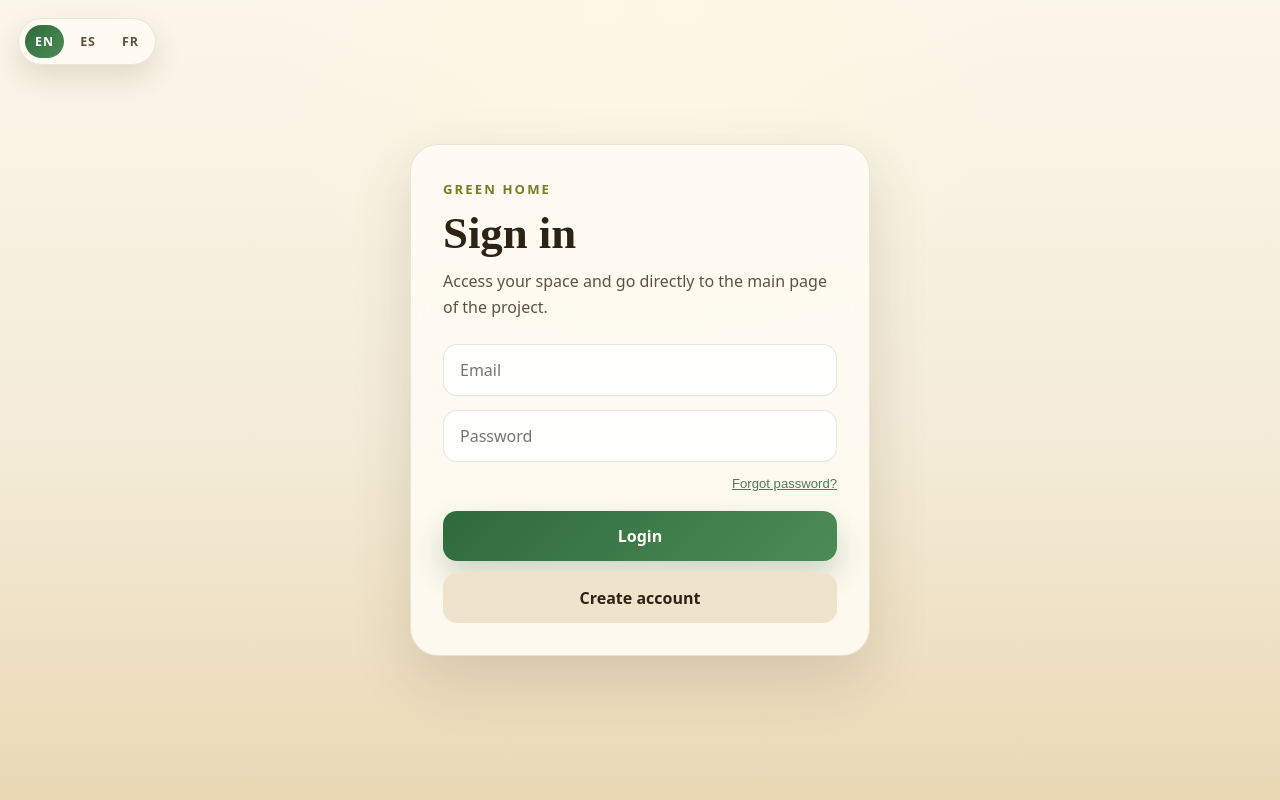
Test: App routing › shows success message on Login after successful registration
The image size is (1280, 800).
Click the button "Create account".
click(640, 598)  # box [443,573,837,623]
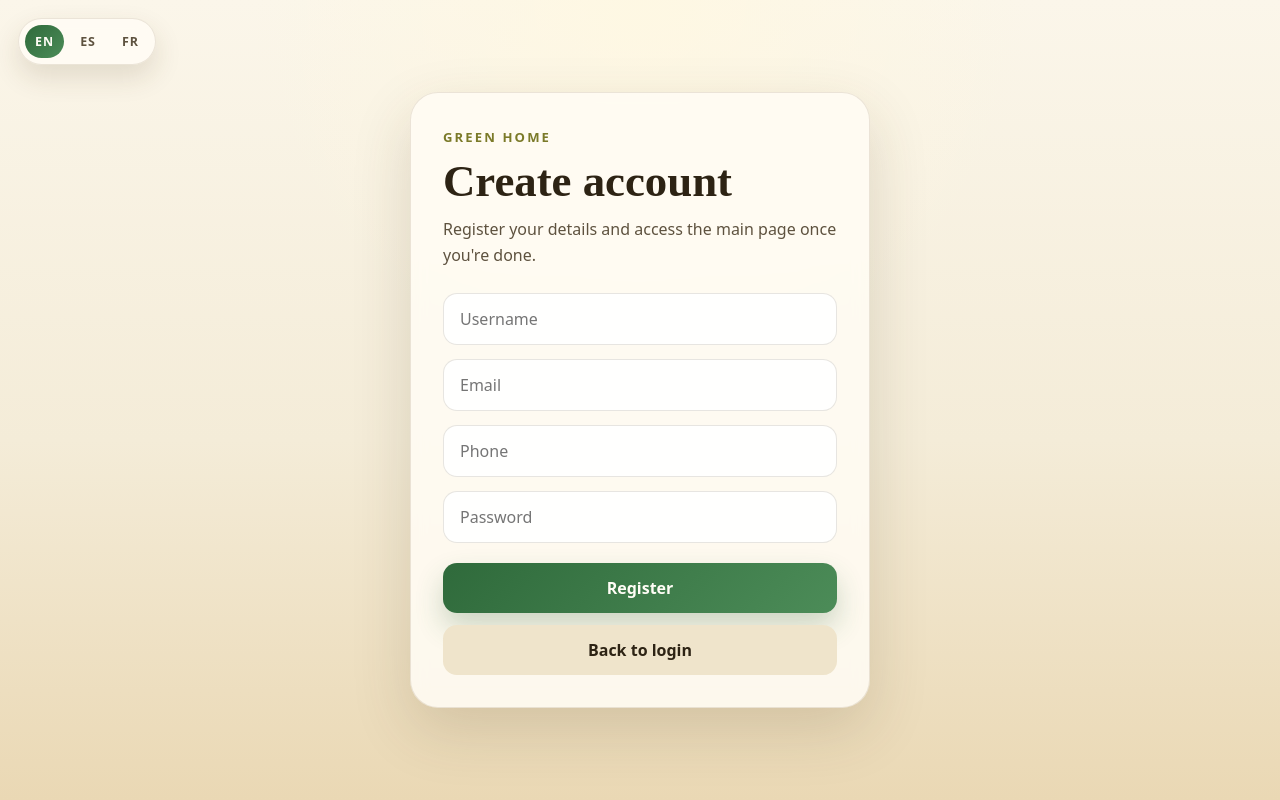
Click the button "Register".
click(640, 588)  # box [443,563,837,613]
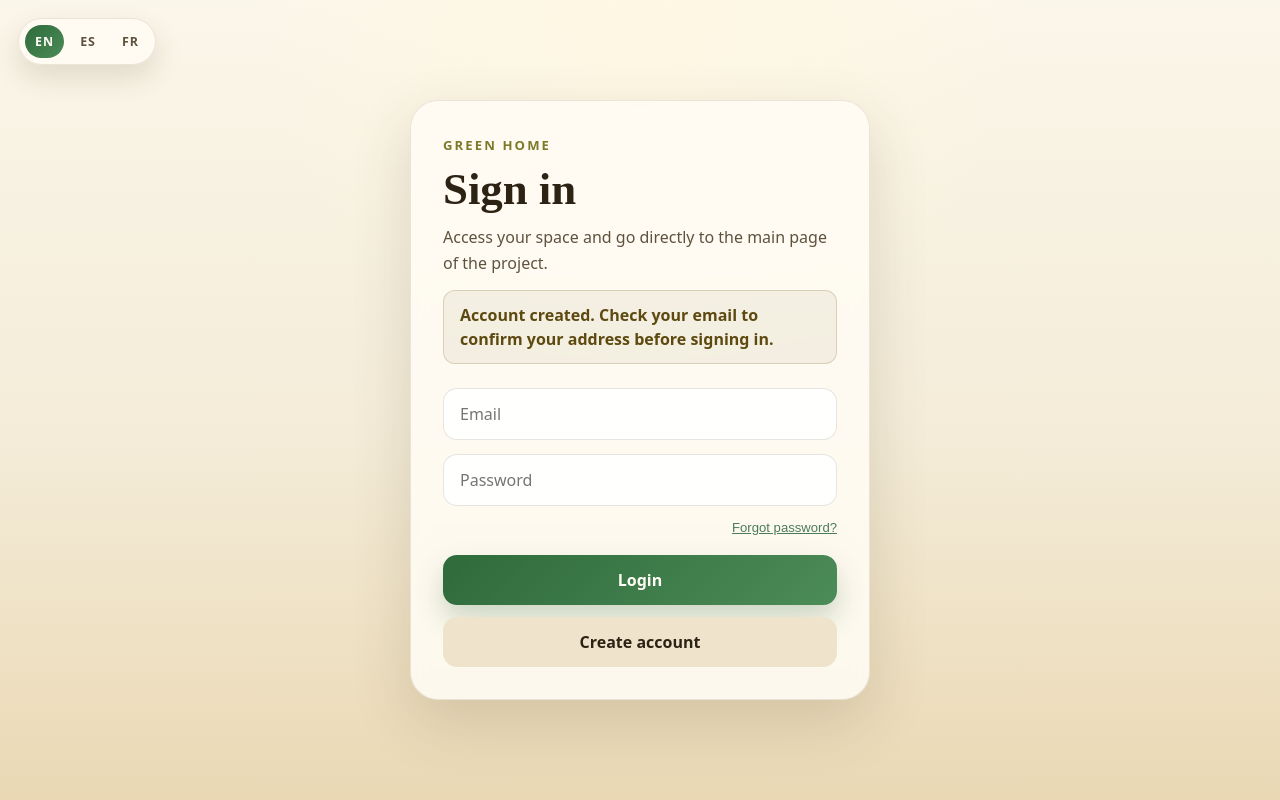
Now the text "Account created" is shown, box [460,304,774,350]
Now the heading "Sign in" is shown, box [443,164,576,214]
